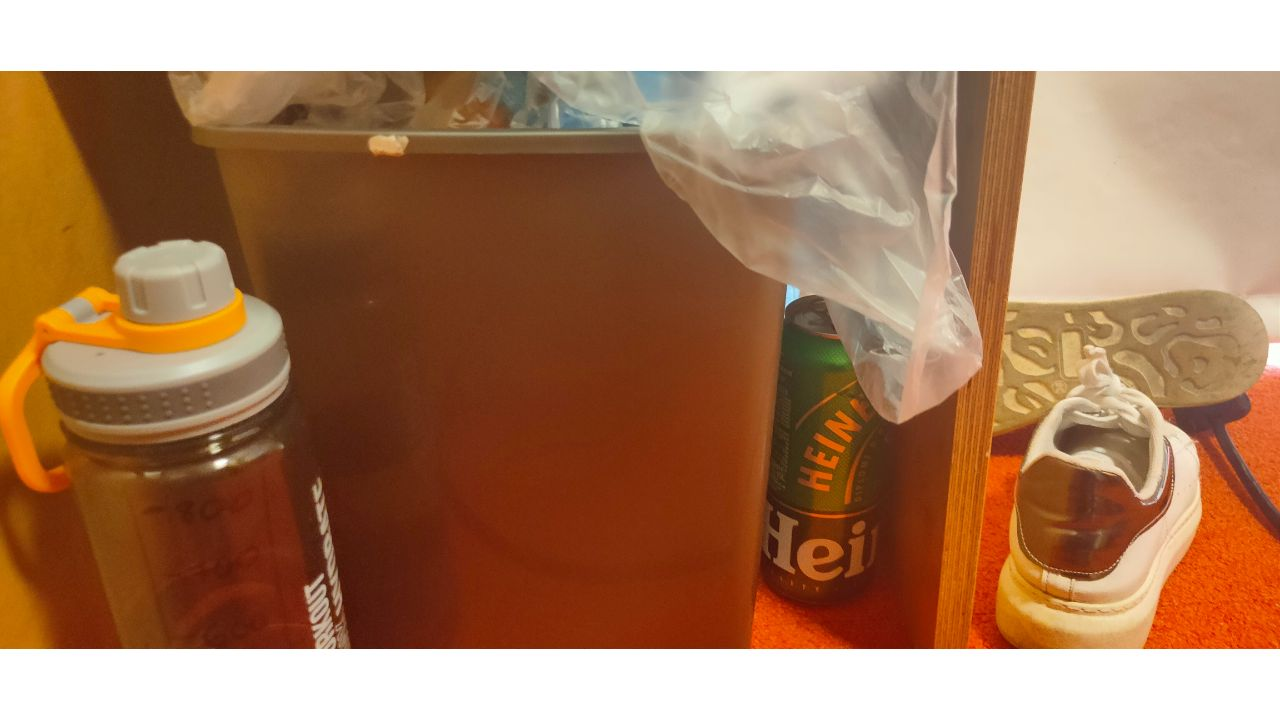Can: (766, 292, 889, 604)
